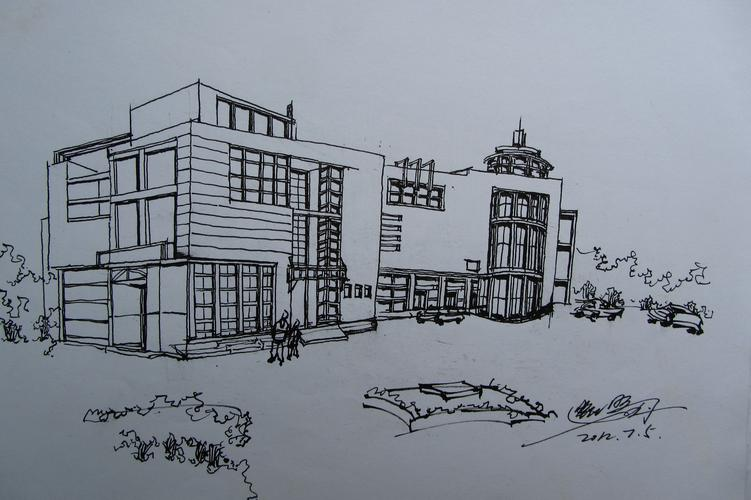buildings: (16, 84, 408, 356), (453, 120, 580, 319)
